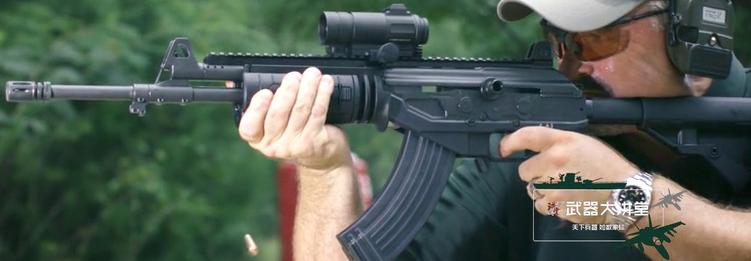gun: (1, 0, 751, 261)
